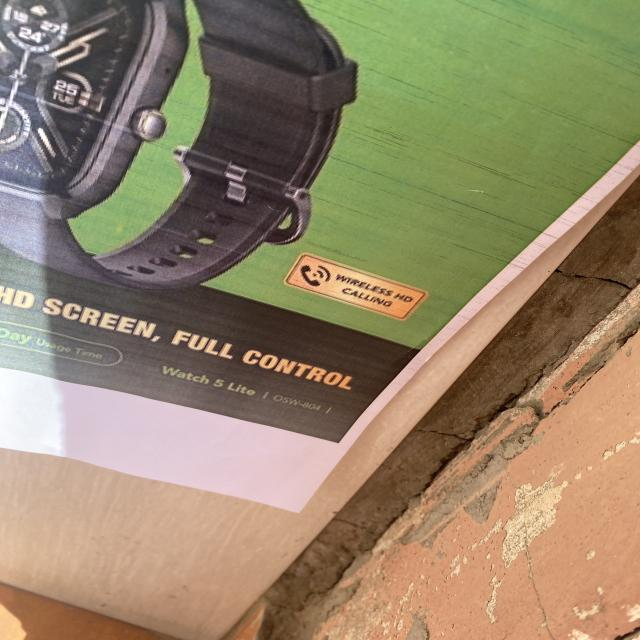Watch 5 Lite OSW-804: (159, 359, 346, 418)
